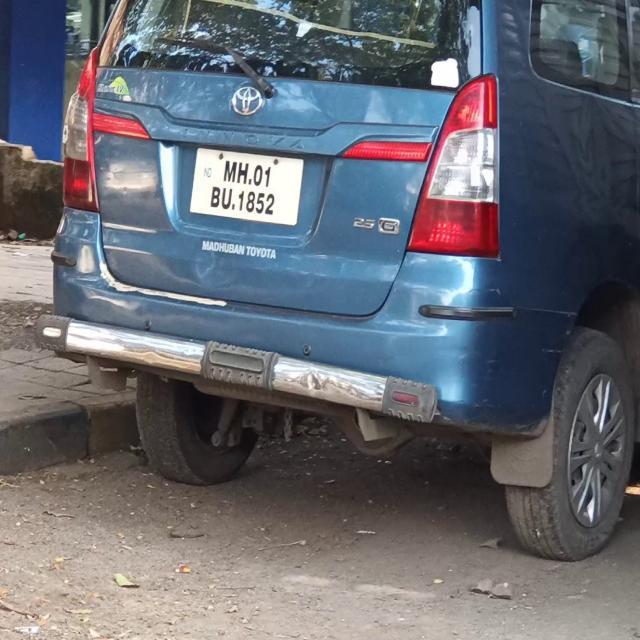Plate: (190, 144, 306, 228)
